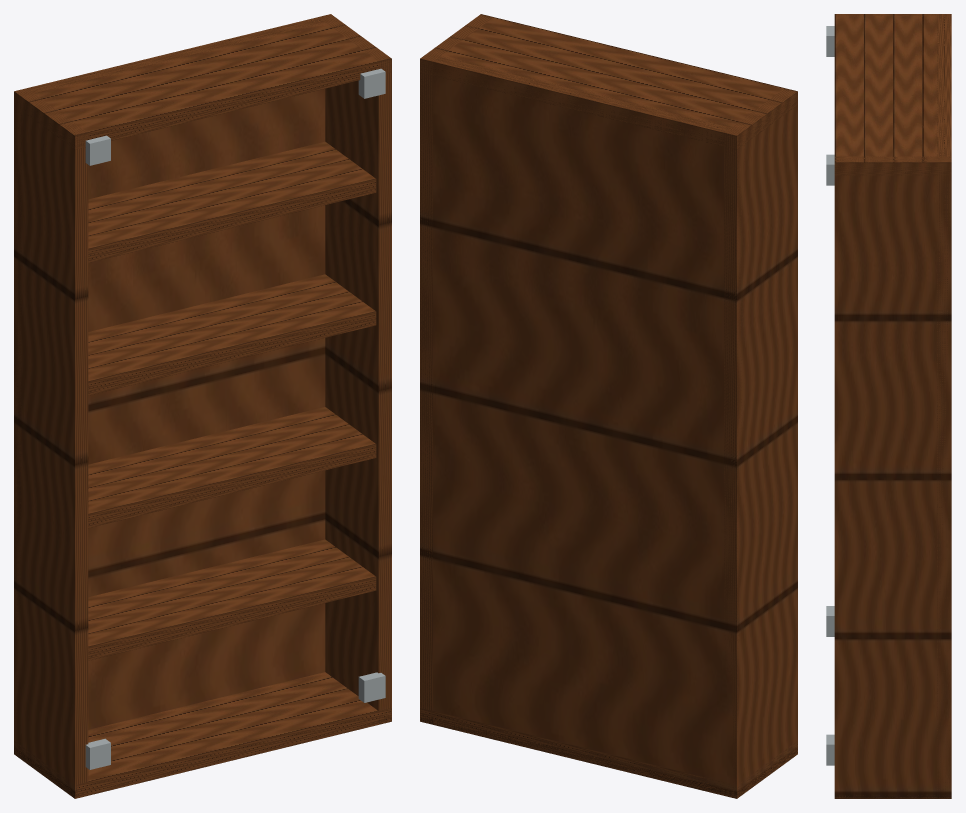
File: suburban-outbreak-interiors-bookcase-broken-back-0e29f6ba__19965.glb
The picture shows the model from 3 angles, left to right: view 1: azimuth 30°, elevation 25°; view 2: azimuth 150°, elevation 25°; view 3: azimuth 270°, elevation 25°; orthographic projection. The views are drawn at different scales.
Parts seen in each view (by area): view 1: bookcase-broken-back; view 2: bookcase-broken-back; view 3: bookcase-broken-back.
Boxes of the visible parts, bbox=[...] form: bookcase-broken-back: bbox=[14, 14, 391, 798]; bookcase-broken-back: bbox=[420, 14, 797, 798]; bookcase-broken-back: bbox=[826, 14, 951, 798].
Bounding box in the file's own units: 0.9001 × 1.8 × 0.321.
Materials: 2 (1 with a texture image).
